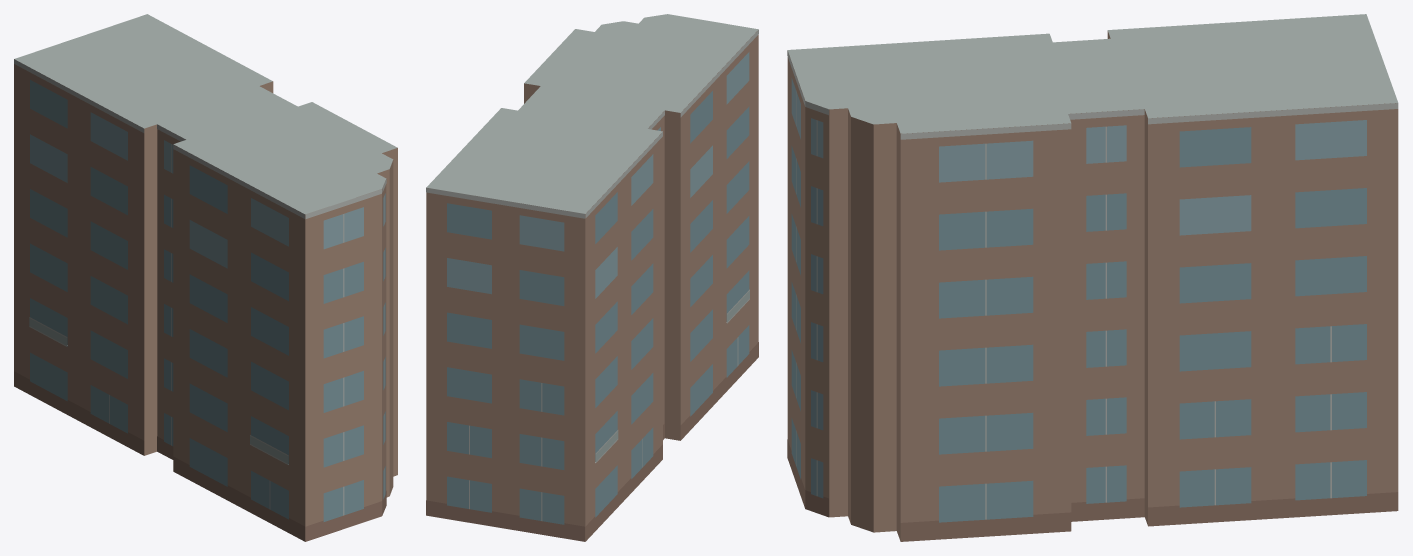
File: survey-upis-32969618.glb
3 views of the same model, side by side, from view 1: azimuth 30°, elevation 25°; view 2: azimuth 150°, elevation 25°; view 3: azimuth 270°, elevation 25° (orthographic). The views are drawn at different scales.
Visible parts, largest first — view 1: survey-upis-32969618.tmp; view 2: survey-upis-32969618.tmp; view 3: survey-upis-32969618.tmp.
Boxes of the visible parts, x1=… form: survey-upis-32969618.tmp: x1=14, y1=14, x2=397, y2=541; survey-upis-32969618.tmp: x1=426, y1=14, x2=758, y2=541; survey-upis-32969618.tmp: x1=787, y1=14, x2=1398, y2=541.
Bounding box in the file's own units: 10.46 × 16.6 × 22.53.
